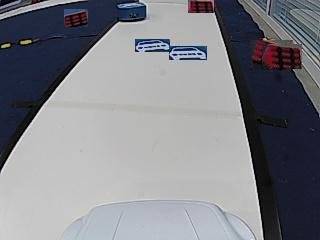prop: (118, 3, 145, 22)
